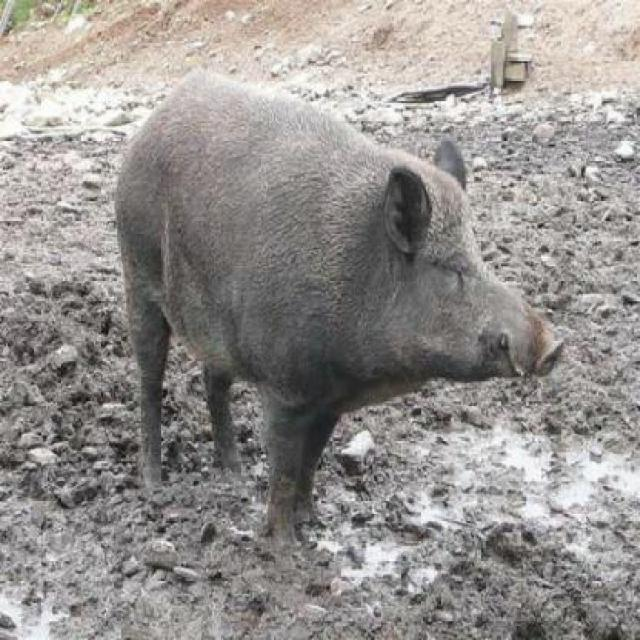Boar: (68, 21, 602, 552)
